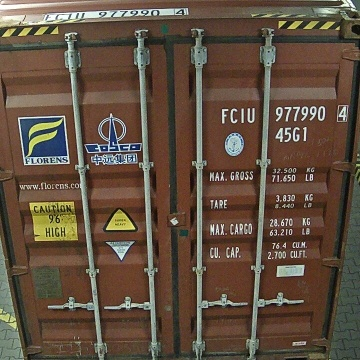serial_id: (221, 105, 347, 123)
